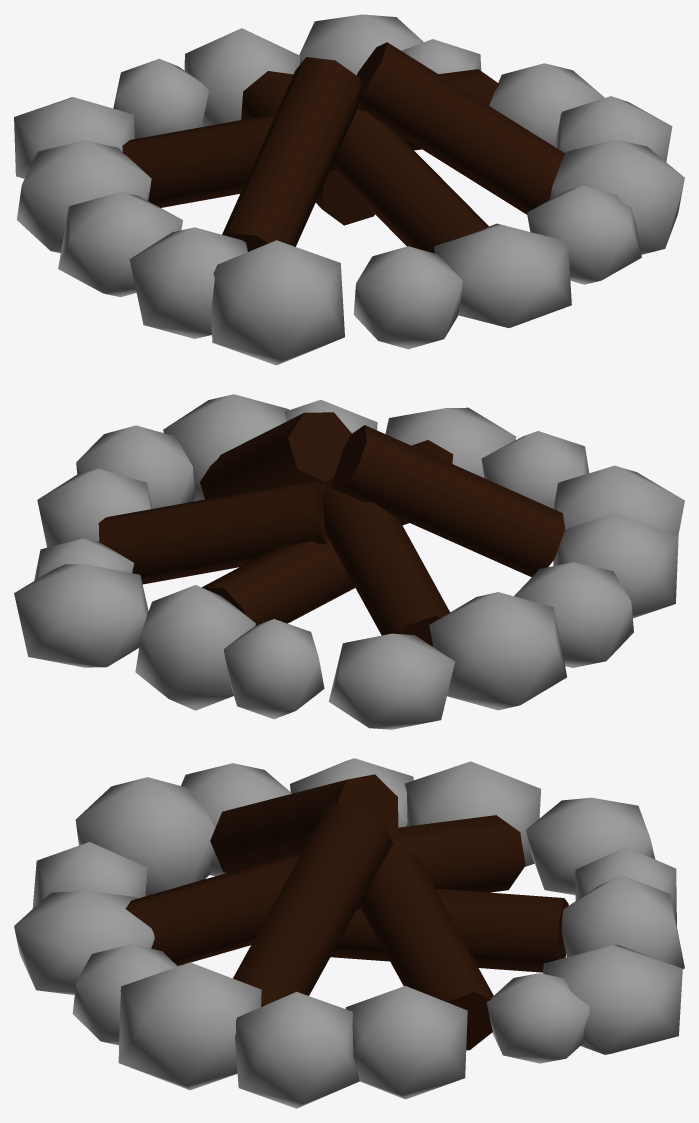
File: s_campfire.FBX
3 views of the same model, one above another, from view 1: azimuth 30°, elevation 25°; view 2: azimuth 150°, elevation 25°; view 3: azimuth 270°, elevation 25° (orthographic). The views are drawn at different scales.
Parts seen in each view (by area): view 1: s_campfire, s_campfire_logs; view 2: s_campfire, s_campfire_logs; view 3: s_campfire, s_campfire_logs.
Boxes of the visible parts, x1,y1,x2,y2 form: s_campfire: (14, 14, 684, 365); s_campfire_logs: (122, 42, 565, 253); s_campfire: (14, 394, 684, 729); s_campfire_logs: (98, 412, 565, 646); s_campfire: (14, 758, 684, 1108); s_campfire_logs: (125, 774, 568, 1050).
Bounding box in the file's own units: 0.9086 × 0.3043 × 0.8848.
